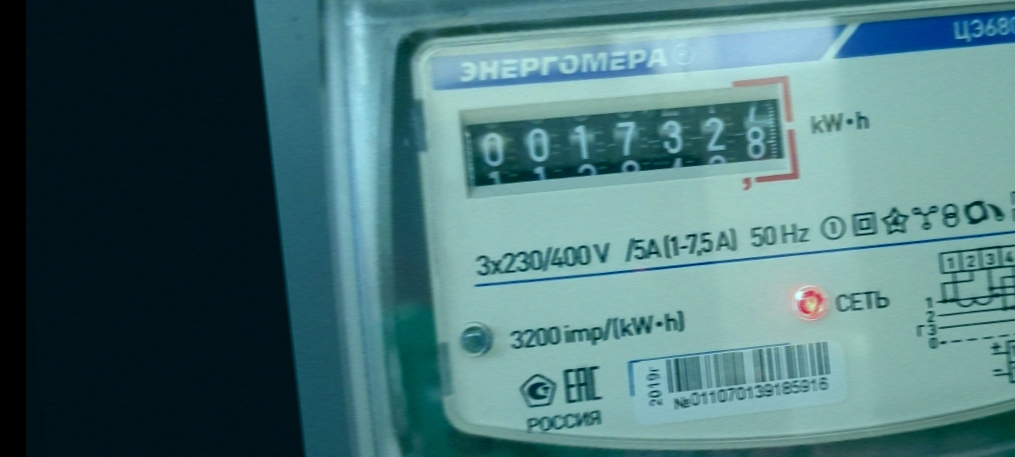0: (478, 128, 508, 170), (526, 124, 552, 164)
1: (570, 121, 593, 162)
2: (702, 114, 728, 153)
3: (660, 117, 686, 155)
7: (615, 117, 641, 158)
8: (744, 122, 767, 160)
screen: (447, 70, 811, 224)
